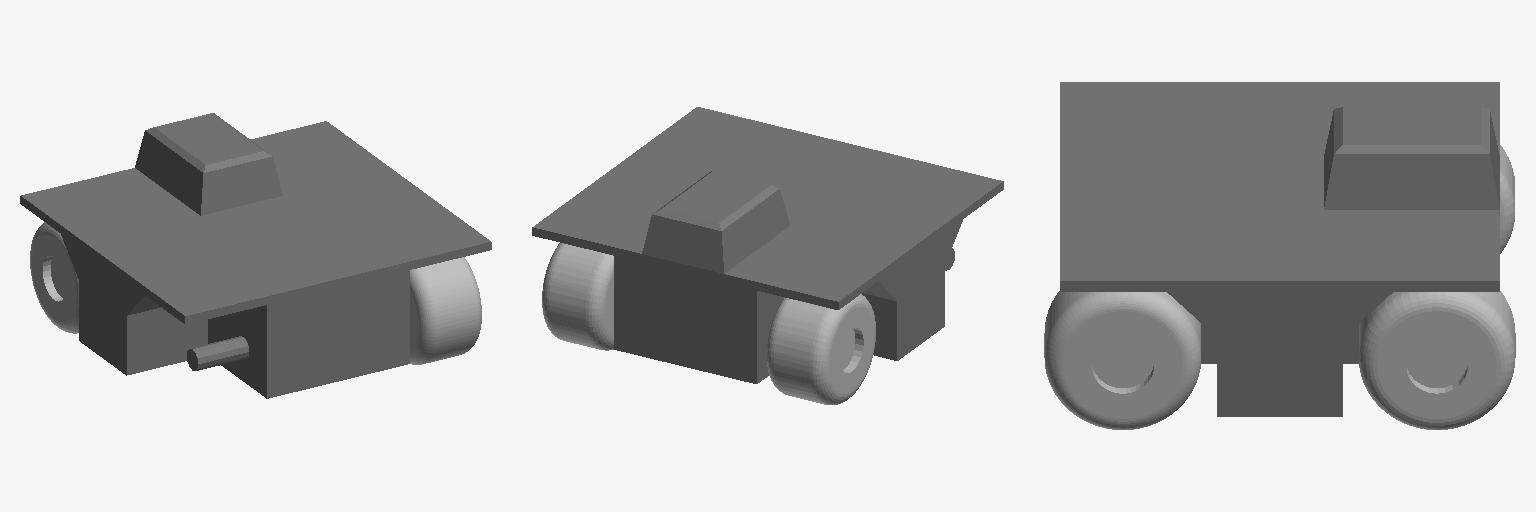
URDF robot description (RobotNurse.URDF):
<?xml version="1.0" encoding="utf-8"?>
<!-- This URDF was automatically created by SolidWorks to URDF Exporter! Originally created by [author] ([email redacted]) 
     Commit Version: 1.6.0-1-g15f4949  Build Version: 1.6.7594.29634
     For more information, please see http://wiki.ros.org/sw_urdf_exporter -->
<robot
  name="RobotNurse.URDF">
  <link
    name="Base">
    <inertial>
      <origin
        xyz="0.00031875 0.13537 -0.011156"
        rpy="0 0 0" />
      <mass
        value="90.341" />
      <inertia
        ixx="3.5753"
        ixy="-0.0043603"
        ixz="0.0057259"
        iyy="5.7246"
        iyz="0.15261"
        izz="3.2601" />
    </inertial>
    <visual>
      <origin
        xyz="0 0 0"
        rpy="0 0 0" />
      <geometry>
        <mesh
          filename="package://RobotNurse.URDF/meshes/Base.STL" />
      </geometry>
      <material
        name="">
        <color
          rgba="0.50196 0.50196 0.50196 1" />
      </material>
    </visual>
    <collision>
      <origin
        xyz="0 0 0"
        rpy="0 0 0" />
      <geometry>
        <mesh
          filename="package://RobotNurse.URDF/meshes/Base.STL" />
      </geometry>
    </collision>
  </link>
  <link
    name="w1">
    <inertial>
      <origin
        xyz="0.074536 0 0"
        rpy="0 0 0" />
      <mass
        value="6.7775" />
      <inertia
        ixx="0.053219"
        ixy="-7.4745E-35"
        ixz="-1.417E-19"
        iyy="0.03802"
        iyz="-2.9562E-36"
        izz="0.03802" />
    </inertial>
    <visual>
      <origin
        xyz="0 0 0"
        rpy="0 0 0" />
      <geometry>
        <mesh
          filename="package://RobotNurse.URDF/meshes/w1.STL" />
      </geometry>
      <material
        name="">
        <color
          rgba="0.75294 0.75294 0.75294 1" />
      </material>
    </visual>
    <collision>
      <origin
        xyz="0 0 0"
        rpy="0 0 0" />
      <geometry>
        <mesh
          filename="package://RobotNurse.URDF/meshes/w1.STL" />
      </geometry>
    </collision>
  </link>
  <joint
    name="w1"
    type="continuous">
    <origin
      xyz="0.2 -0.25 0.08"
      rpy="1.5707963267949 0 0" />
    <parent
      link="Base" />
    <child
      link="w1" />
    <axis
      xyz="1 0 0" />
  </joint>
  <link
    name="w2">
    <inertial>
      <origin
        xyz="0.074536 0 0"
        rpy="0 0 0" />
      <mass
        value="6.7775" />
      <inertia
        ixx="0.053219"
        ixy="-7.4745E-35"
        ixz="-1.1505E-19"
        iyy="0.03802"
        iyz="-2.9562E-36"
        izz="0.03802" />
    </inertial>
    <visual>
      <origin
        xyz="0 0 0"
        rpy="0 0 0" />
      <geometry>
        <mesh
          filename="package://RobotNurse.URDF/meshes/w2.STL" />
      </geometry>
      <material
        name="">
        <color
          rgba="0.75294 0.75294 0.75294 1" />
      </material>
    </visual>
    <collision>
      <origin
        xyz="0 0 0"
        rpy="0 0 0" />
      <geometry>
        <mesh
          filename="package://RobotNurse.URDF/meshes/w2.STL" />
      </geometry>
    </collision>
  </link>
  <joint
    name="w2"
    type="continuous">
    <origin
      xyz="0.2 0.25 0.08"
      rpy="1.5707963267949 0 0" />
    <parent
      link="Base" />
    <child
      link="w2" />
    <axis
      xyz="1 0 0" />
  </joint>
  <link
    name="w3">
    <inertial>
      <origin
        xyz="0.074536 0 1.3878E-17"
        rpy="0 0 0" />
      <mass
        value="6.7775" />
      <inertia
        ixx="0.053219"
        ixy="-1.3969E-19"
        ixz="9.0744E-21"
        iyy="0.03802"
        iyz="0"
        izz="0.03802" />
    </inertial>
    <visual>
      <origin
        xyz="0 0 0"
        rpy="0 0 0" />
      <geometry>
        <mesh
          filename="package://RobotNurse.URDF/meshes/w3.STL" />
      </geometry>
      <material
        name="">
        <color
          rgba="0.75294 0.75294 0.75294 1" />
      </material>
    </visual>
    <collision>
      <origin
        xyz="0 0 0"
        rpy="0 0 0" />
      <geometry>
        <mesh
          filename="package://RobotNurse.URDF/meshes/w3.STL" />
      </geometry>
    </collision>
  </link>
  <joint
    name="w3"
    type="continuous">
    <origin
      xyz="-0.2 0.25 0.08"
      rpy="2.97658962801217 0 3.14159265358979" />
    <parent
      link="Base" />
    <child
      link="w3" />
    <axis
      xyz="1 0 0" />
  </joint>
  <link
    name="w4">
    <inertial>
      <origin
        xyz="0.0745364696784733 0 0"
        rpy="0 0 0" />
      <mass
        value="6.77753430076086" />
      <inertia
        ixx="0.0532193232995393"
        ixy="-1.39685299760028E-19"
        ixz="9.07441870162449E-21"
        iyy="0.0380198317305351"
        iyz="0"
        izz="0.0380198317305351" />
    </inertial>
    <visual>
      <origin
        xyz="0 0 0"
        rpy="0 0 0" />
      <geometry>
        <mesh
          filename="package://RobotNurse.URDF/meshes/w4.STL" />
      </geometry>
      <material
        name="">
        <color
          rgba="0.752941176470588 0.752941176470588 0.752941176470588 1" />
      </material>
    </visual>
    <collision>
      <origin
        xyz="0 0 0"
        rpy="0 0 0" />
      <geometry>
        <mesh
          filename="package://RobotNurse.URDF/meshes/w4.STL" />
      </geometry>
    </collision>
  </link>
  <joint
    name="w4"
    type="continuous">
    <origin
      xyz="-0.2 0.25 0.08"
      rpy="2.97658962801217 0 3.14159265358979" />
    <parent
      link="Base" />
    <child
      link="w4" />
    <axis
      xyz="1 0 0" />
  </joint>
</robot>

--- Facts derived from the render (not from the file) ---
Views: 3 orthographic renders of the robot side by side, from view 1: azimuth 30°, elevation 25°; view 2: azimuth 150°, elevation 25°; view 3: azimuth 270°, elevation 25°.
Robot: RobotNurse.URDF — 5 links, 4 joints (4 continuous); root link Base; default pose: every joint at zero.
Visible links, largest first — view 1: Base, w1, w3; view 2: Base, w3, w2; view 3: Base, w1, w2, w3.
Boxes of the visible links, x1,y1,x2,y2 form: Base: (20, 113, 491, 398); w1: (410, 257, 481, 364); w3: (30, 222, 78, 333); Base: (532, 107, 1003, 383); w3: (767, 294, 875, 404); w2: (542, 243, 613, 350); Base: (1060, 82, 1499, 416); w1: (1044, 291, 1200, 429); w2: (1359, 291, 1515, 429); w3: (1500, 145, 1514, 253).
Bounding box of the posed robot: 0.75 × 0.75 × 0.385 m (x, y, z).
5 mesh visuals loaded from 5 distinct referenced files (5 binary STL).